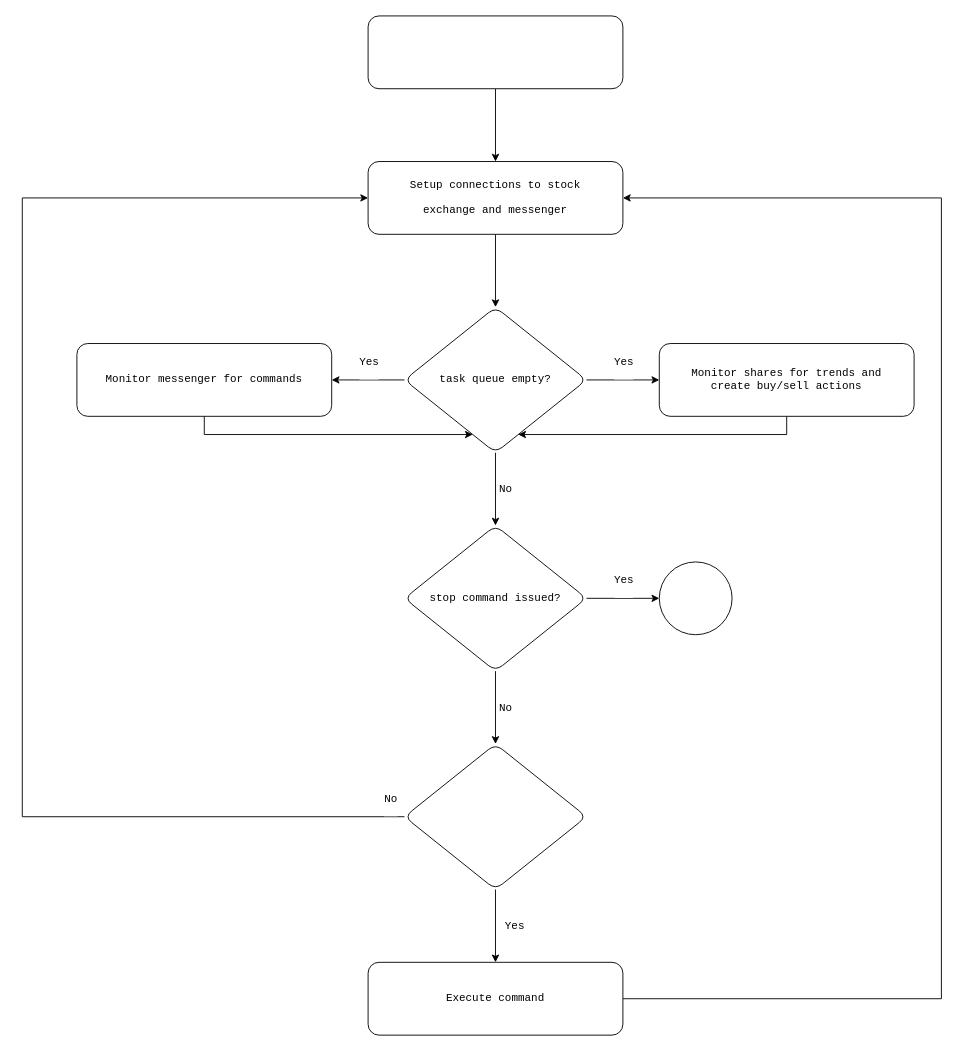
Image size: 965x1051. Some labels were removed from this diagram. The shapes that lost their labels are listed below. From the top down, each one's centre as x and y in pixels, then its label:
the point at 495,52: Start trading manager
the point at 695,598: End
the point at 495,816: is command valid?
